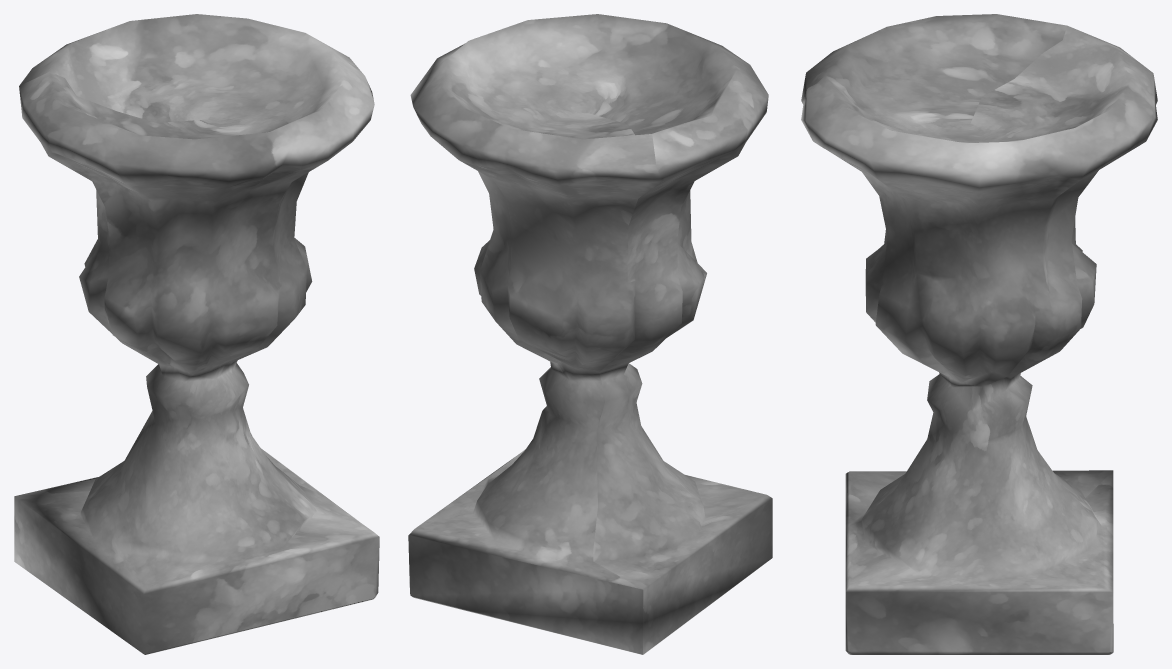
The model's file is SM_Pot_01a.fbx.
3 renders of one model, left to right at view 1: azimuth 30°, elevation 25°; view 2: azimuth 150°, elevation 25°; view 3: azimuth 270°, elevation 25°, orthographic. The views are drawn at different scales.
Parts seen in each view (by area): view 1: SM_Pot_01a_LOD0; view 2: SM_Pot_01a_LOD0; view 3: SM_Pot_01a_LOD0.
Part boxes in pixels (x1=…): SM_Pot_01a_LOD0: x1=14, y1=14, x2=379, y2=654; SM_Pot_01a_LOD0: x1=408, y1=14, x2=772, y2=654; SM_Pot_01a_LOD0: x1=801, y1=14, x2=1157, y2=654.
Bounding box in the file's own units: 73.36 × 71.45 × 115.
